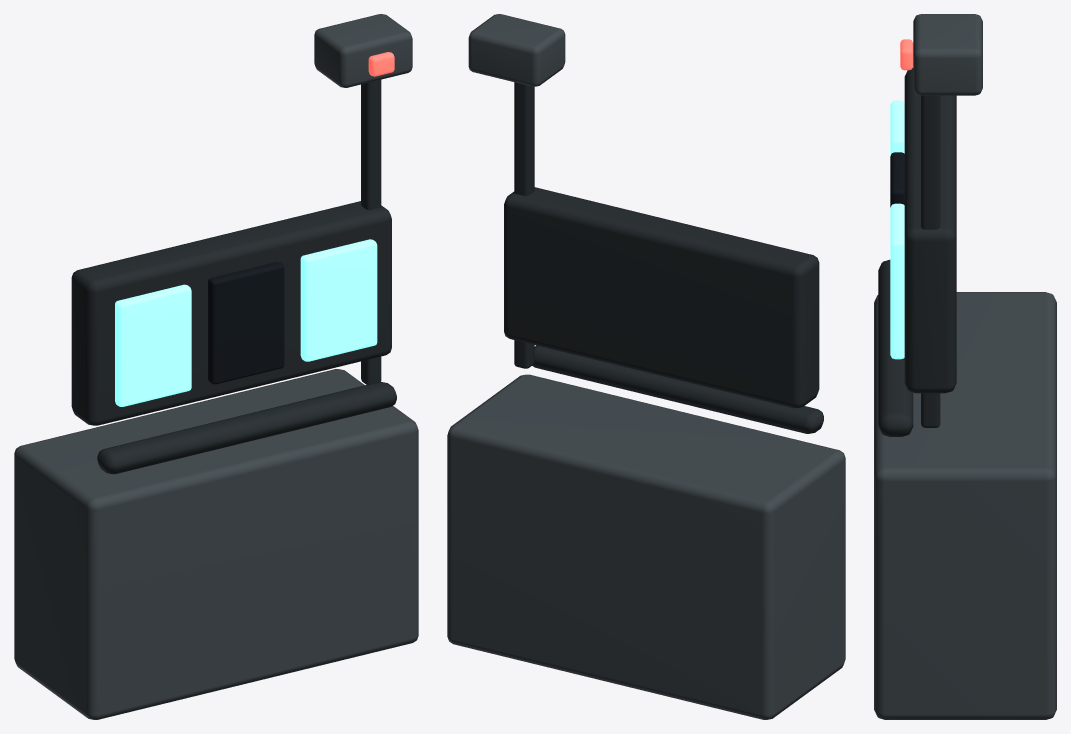
Rendered from hp_puzzle_console_surveillance_match.glb.
3 views of the same model, side by side, from view 1: azimuth 30°, elevation 25°; view 2: azimuth 150°, elevation 25°; view 3: azimuth 270°, elevation 25° (orthographic). The views are drawn at different scales.
Parts seen in each view (by area): view 1: surveillance_desk_body, screen_riser, surveillance_screen_2, surveillance_desk_lip, surveillance_screen_0, surveillance_screen_1, camera_head, camera_mast; view 2: surveillance_desk_body, screen_riser, surveillance_desk_lip, camera_head, camera_mast; view 3: surveillance_desk_body, screen_riser, camera_head, surveillance_desk_lip, camera_mast, surveillance_screen_2, surveillance_screen_0, surveillance_screen_1, camera_eye.
Part boxes in pixels (left/top/right/bottom): surveillance_desk_body: left=14, top=369, right=418, bottom=719; screen_riser: left=71, top=201, right=391, bottom=425; surveillance_screen_2: left=300, top=239, right=377, bottom=361; surveillance_desk_lip: left=97, top=382, right=396, bottom=474; surveillance_screen_0: left=115, top=284, right=191, bottom=406; surveillance_screen_1: left=208, top=262, right=284, bottom=384; camera_head: left=314, top=14, right=412, bottom=87; camera_mast: left=361, top=79, right=381, bottom=384; surveillance_desk_body: left=447, top=374, right=845, bottom=719; screen_riser: left=504, top=187, right=819, bottom=408; surveillance_desk_lip: left=532, top=345, right=823, bottom=433; camera_head: left=468, top=14, right=565, bottom=86; camera_mast: left=514, top=82, right=534, bottom=368; surveillance_desk_body: left=874, top=292, right=1056, bottom=719; screen_riser: left=904, top=68, right=956, bottom=393; camera_head: left=913, top=14, right=982, bottom=95; surveillance_desk_lip: left=878, top=259, right=913, bottom=436; camera_mast: left=921, top=95, right=940, bottom=427; surveillance_screen_2: left=890, top=203, right=904, bottom=359; surveillance_screen_0: left=890, top=100, right=904, bottom=155; surveillance_screen_1: left=890, top=152, right=904, bottom=207; camera_eye: left=900, top=39, right=913, bottom=70.
Size of the model in its own units: 1.03 by 1.72 by 0.42.
